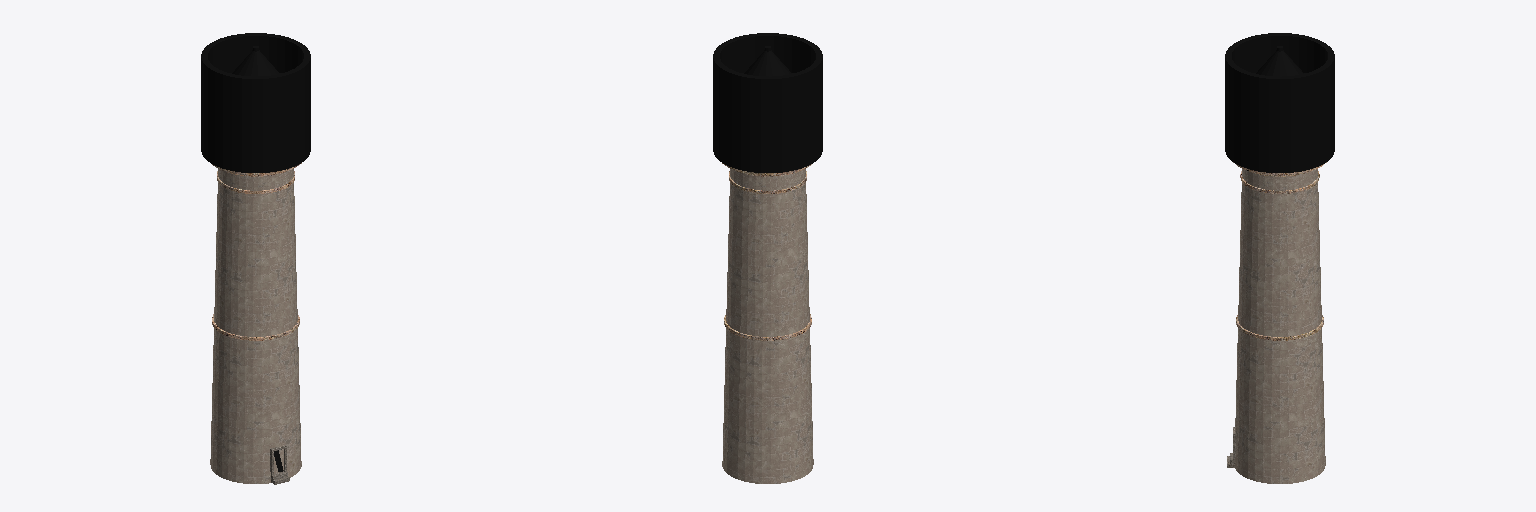
3 renders of one model, left to right at view 1: azimuth 30°, elevation 25°; view 2: azimuth 150°, elevation 25°; view 3: azimuth 270°, elevation 25°, orthographic.
Parts seen in each view (by area): view 1: башня_корпус, Circle.002, Cone; view 2: башня_корпус, Circle.002, Cone; view 3: башня_корпус, Circle.002, Cone.
Boxes of the visible parts, box(x1,y1,x2,y2) form: башня_корпус: box(210, 163, 301, 483); Circle.002: box(201, 33, 310, 172); Cone: box(232, 46, 279, 76); башня_корпус: box(722, 163, 813, 483); Circle.002: box(713, 33, 822, 172); Cone: box(744, 46, 791, 76); башня_корпус: box(1233, 162, 1326, 483); Circle.002: box(1225, 33, 1334, 172); Cone: box(1256, 46, 1303, 76).
Size of the model in its own units: 3.46 by 14.53 by 3.46.
Materials: 6 (3 with a texture image).